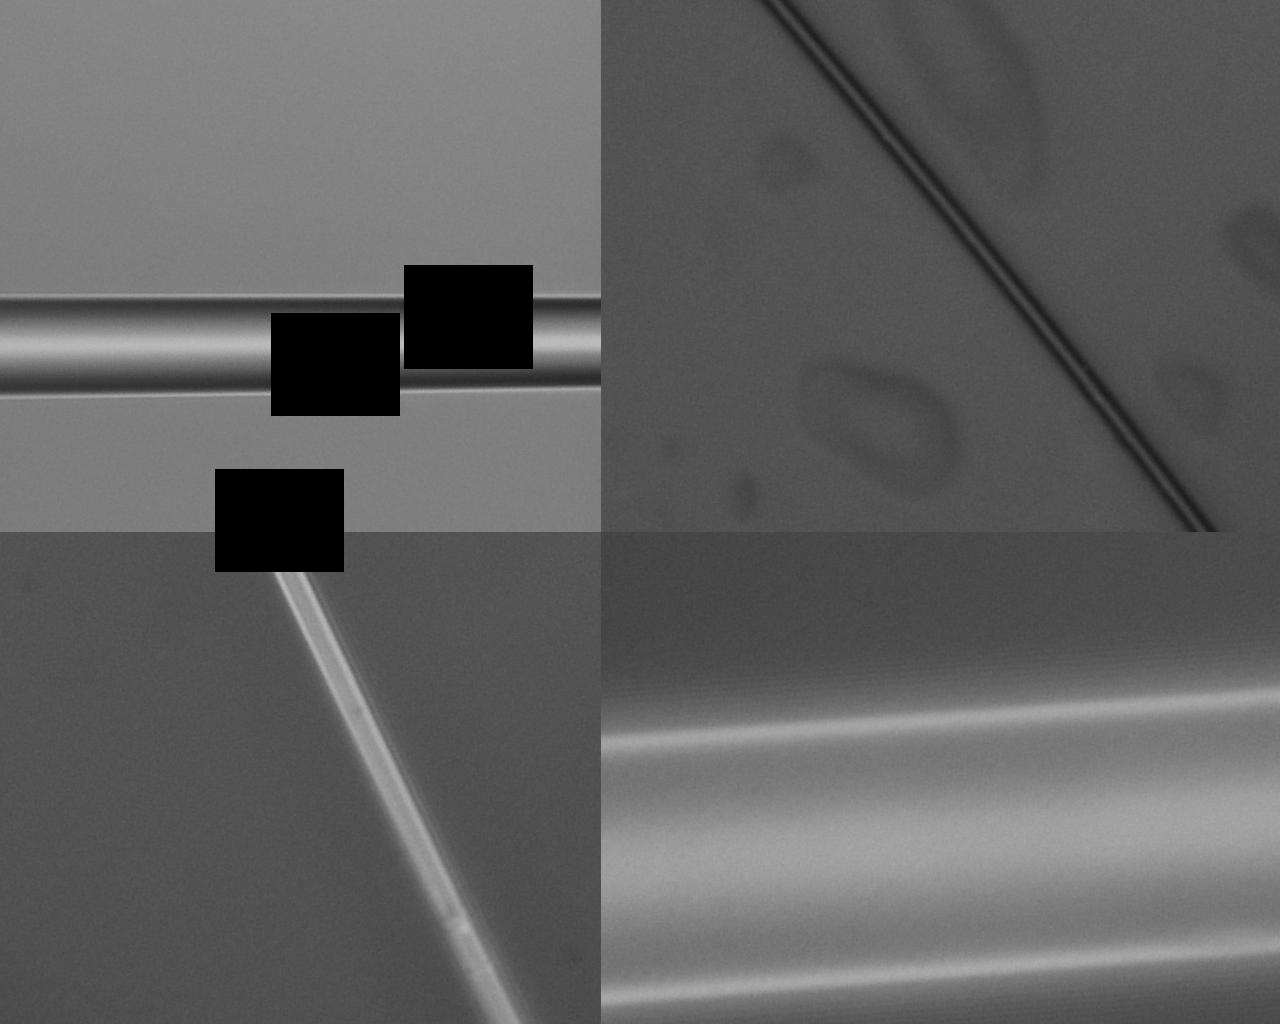fiber: (906, 0, 954, 1024)
